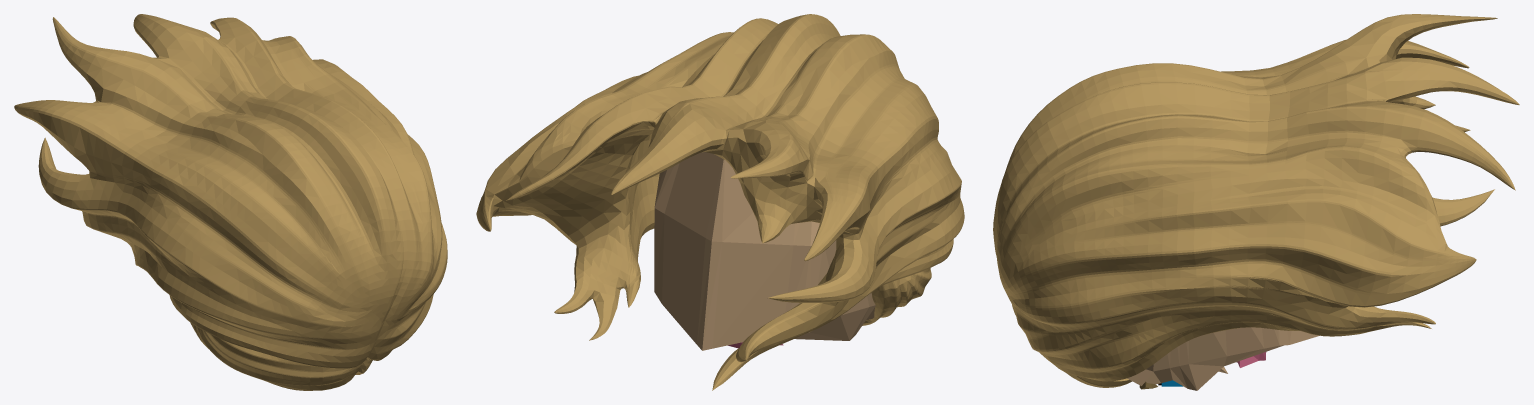
Rendered from thejuliette.obj.
3 views of the same model, side by side, from view 1: azimuth 30°, elevation 25°; view 2: azimuth 150°, elevation 25°; view 3: azimuth 270°, elevation 25° (orthographic). The views are drawn at different scales.
Parts seen in each view (by area): view 1: Object.1; view 2: Object.1, Object.4; view 3: Object.1, Object.4.
Part boxes in pixels (x1,y1,x2,y2): Object.1: (14,14,447,390); Object.1: (476,14,964,390); Object.4: (654,152,875,350); Object.1: (993,14,1519,387); Object.4: (1127,327,1319,390).
Size of the model in its own units: 2311 by 1898 by 2926.
